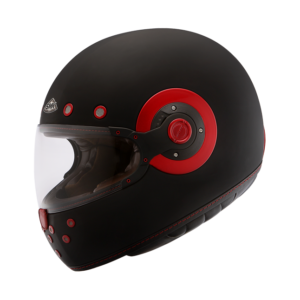with_helmet: (34, 23, 272, 275)
